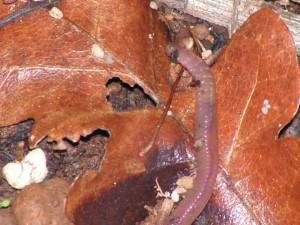earthworms: (162, 20, 257, 225)
